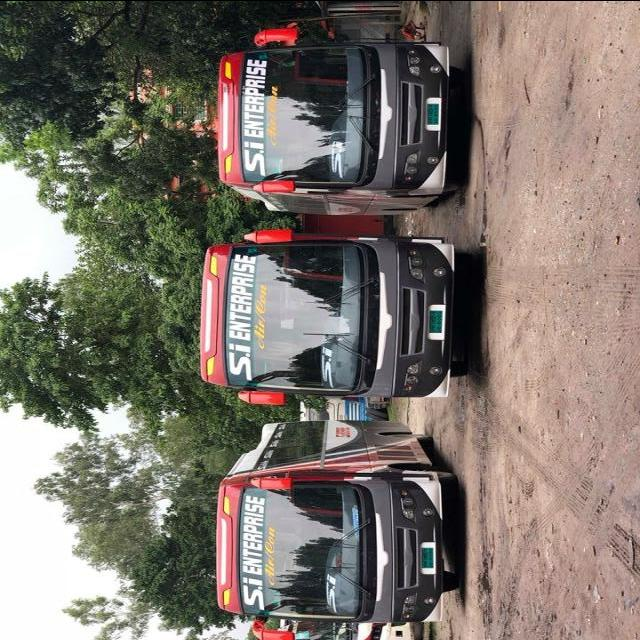bus: (217, 419, 458, 640), (197, 228, 480, 405), (215, 27, 469, 215)
